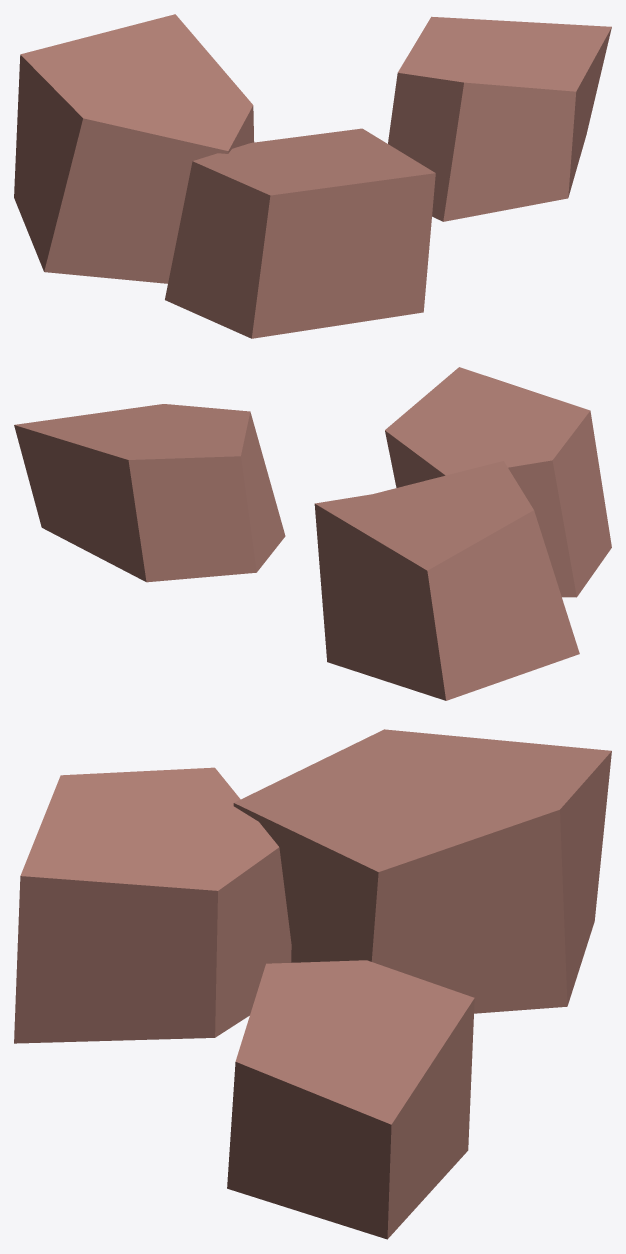
File: detail_002a_coral_rubble.glb
The picture shows the model from 3 angles, top to bottom: view 1: azimuth 30°, elevation 25°; view 2: azimuth 150°, elevation 25°; view 3: azimuth 270°, elevation 25°; orthographic projection. The views are drawn at different scales.
Parts seen in each view (by area): view 1: detail_002a_coral_rubble__mesh; view 2: detail_002a_coral_rubble__mesh; view 3: detail_002a_coral_rubble__mesh.
Boxes of the visible parts, box(x1,y1,x2,y2) form: detail_002a_coral_rubble__mesh: box(14, 14, 611, 338); detail_002a_coral_rubble__mesh: box(14, 367, 611, 700); detail_002a_coral_rubble__mesh: box(14, 729, 611, 1239).
Size of the model in its own units: 0.1704 by 0.0445 by 0.1164.
